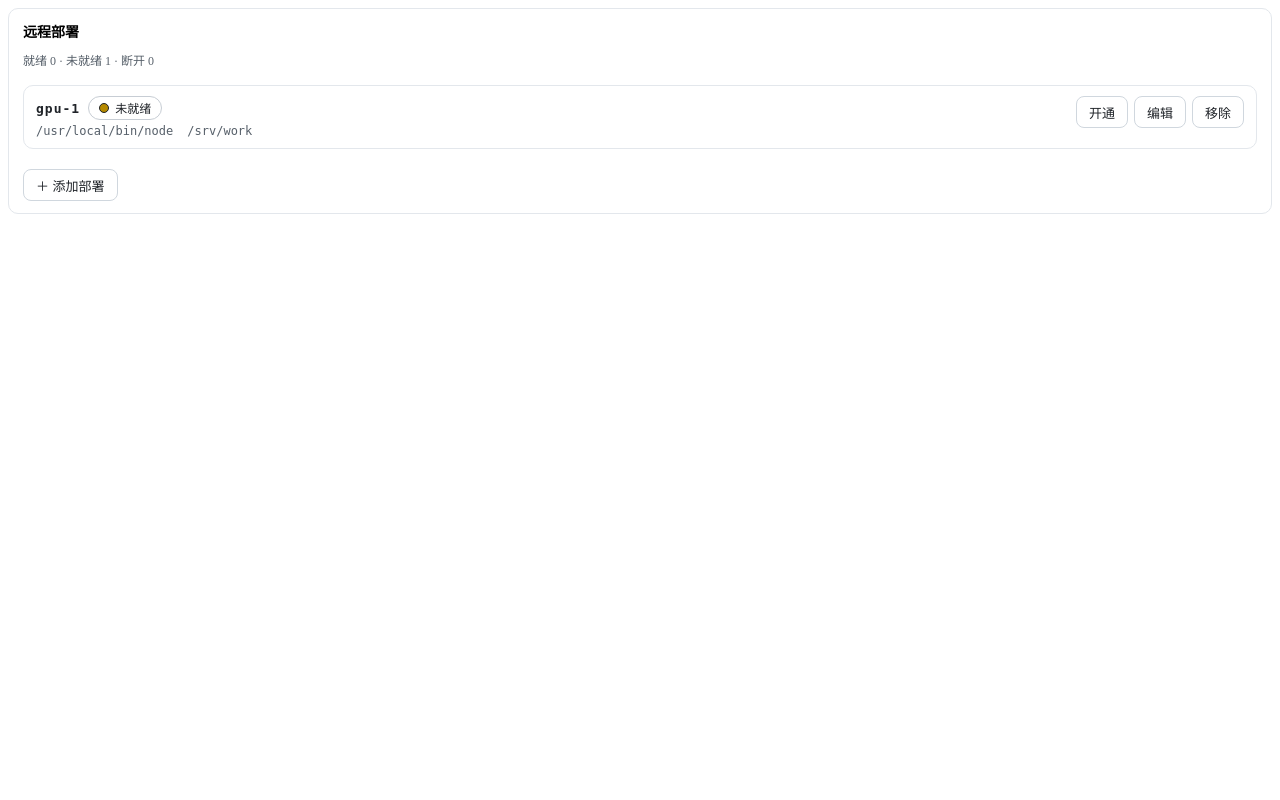
Test: 开通向导（拉式步进） › D31 第二分支（摘要不符）：④失败给「转直连」入口 → 确认后转就绪（直连）+ 角标留痕
The image size is (1280, 800).
Step 1. Click the button with test id "deploy-provision" → (1102, 112), box 1076,96 -> 1128,128
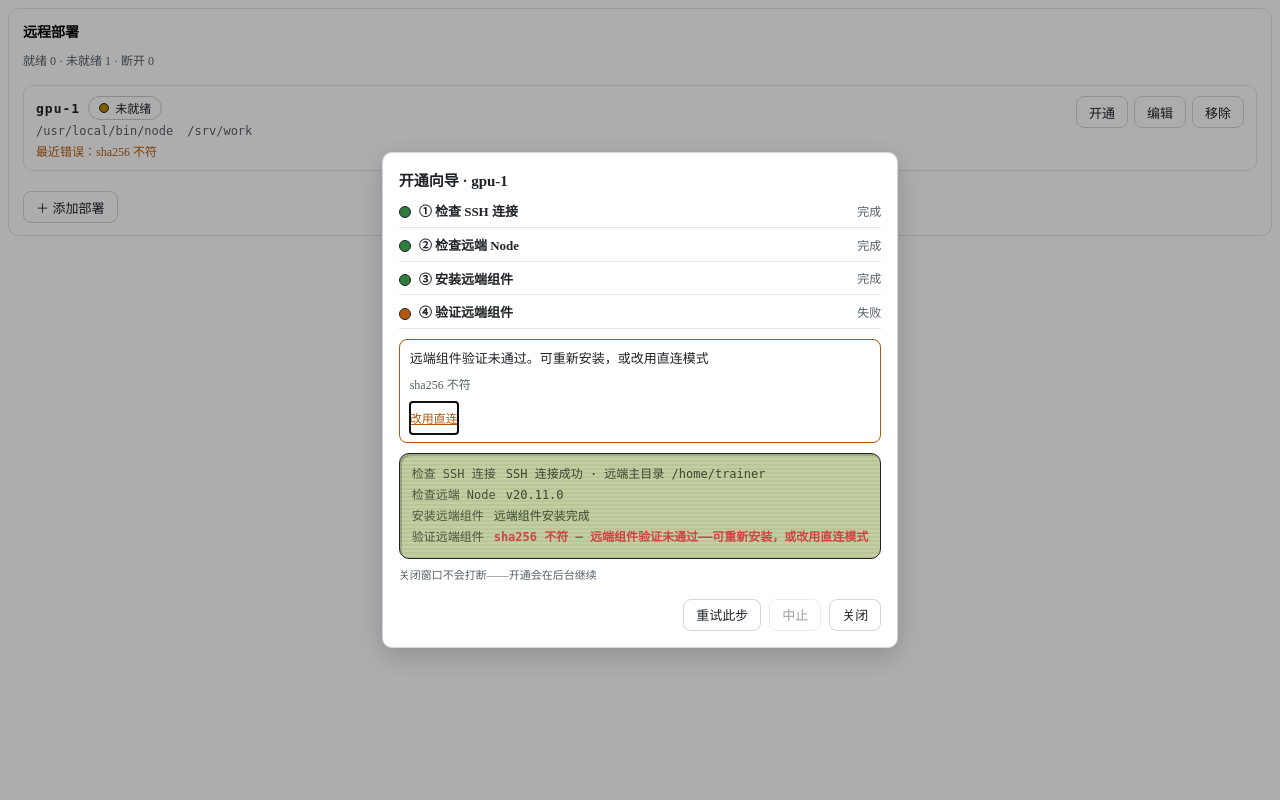
Result: the message with test id "wizard-failure" shows "组件验证未通过" at 410,351 -> 709,366
Step 2. Click the button "改用直连" → (434, 418), box 410,402 -> 458,434
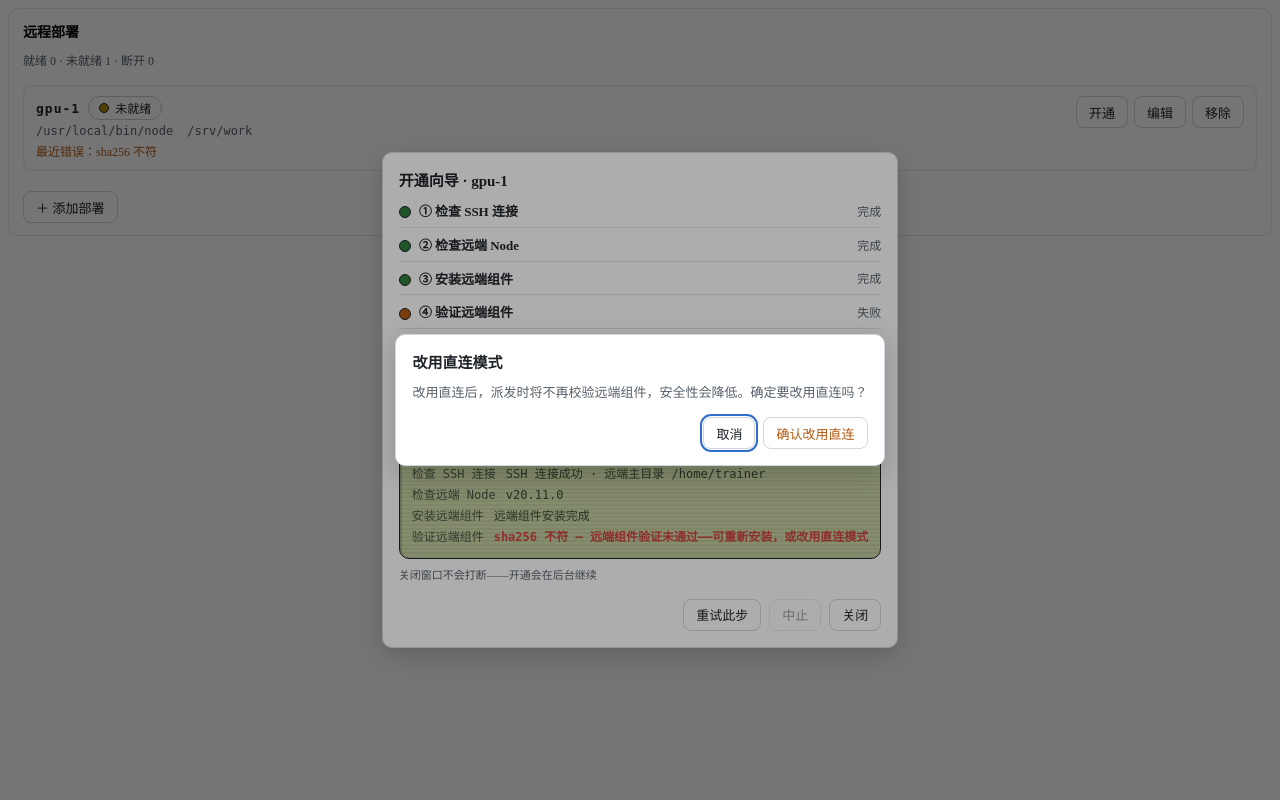
Result: the heading "改用直连模式" is shown at 412,355 -> 502,371
Result: the text "改用直连后，派发时将不再校验远端组件，安全性会降低。确定要改用直连吗？" is shown at 412,383 -> 868,403
Step 3. Click the button "确认改用直连" → (816, 433), box 764,417 -> 868,449
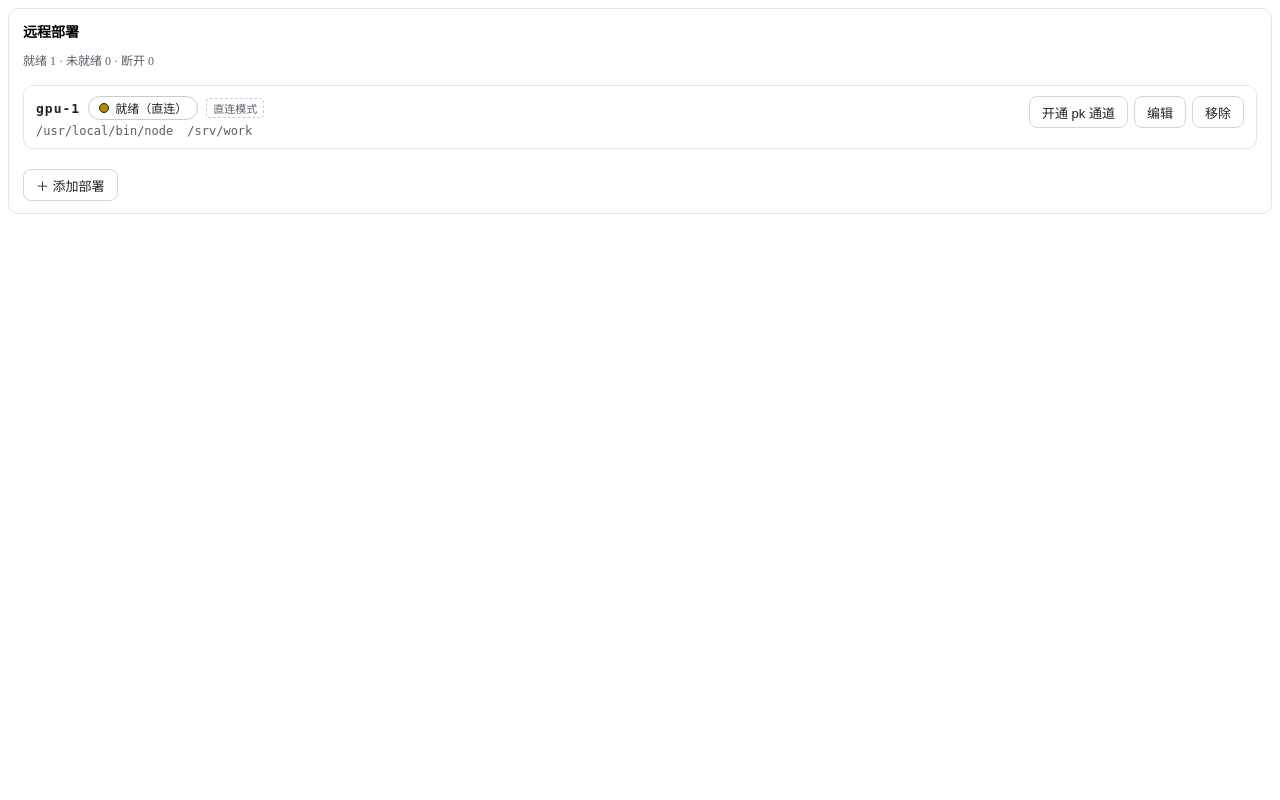
Result: the text "直连模式" is shown at 206,98 -> 264,118
Result: the text "就绪（直连）" is shown at 88,96 -> 198,120
